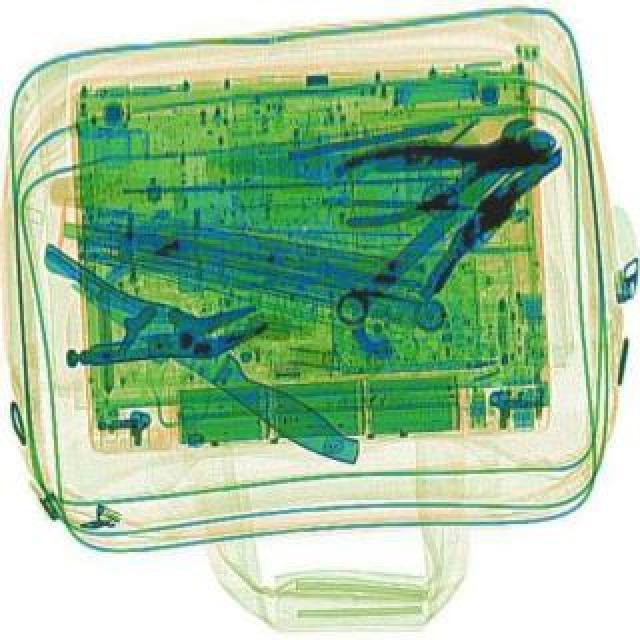gun: (386, 144, 594, 302)
knife: (60, 262, 368, 470)
scissors: (322, 108, 558, 336)
wrench: (326, 112, 544, 232)
